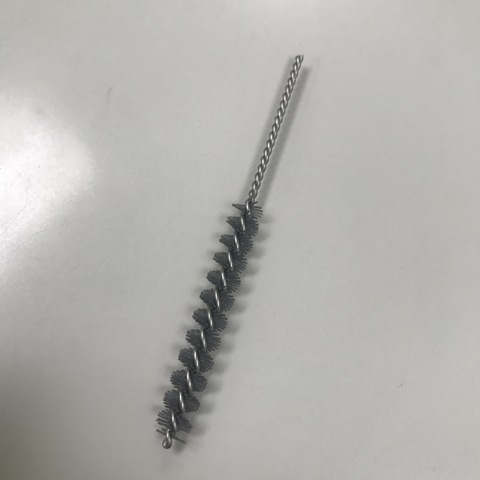Twist Brush-A: (154, 48, 311, 449)
